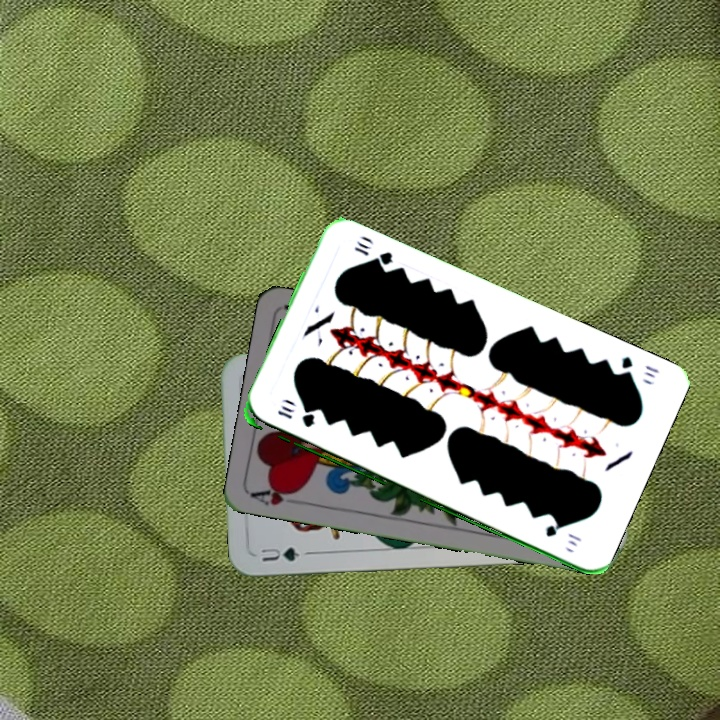G10: (614, 352, 662, 382), (273, 402, 317, 430)
GU: (257, 543, 303, 564)
HA: (248, 481, 303, 508)
